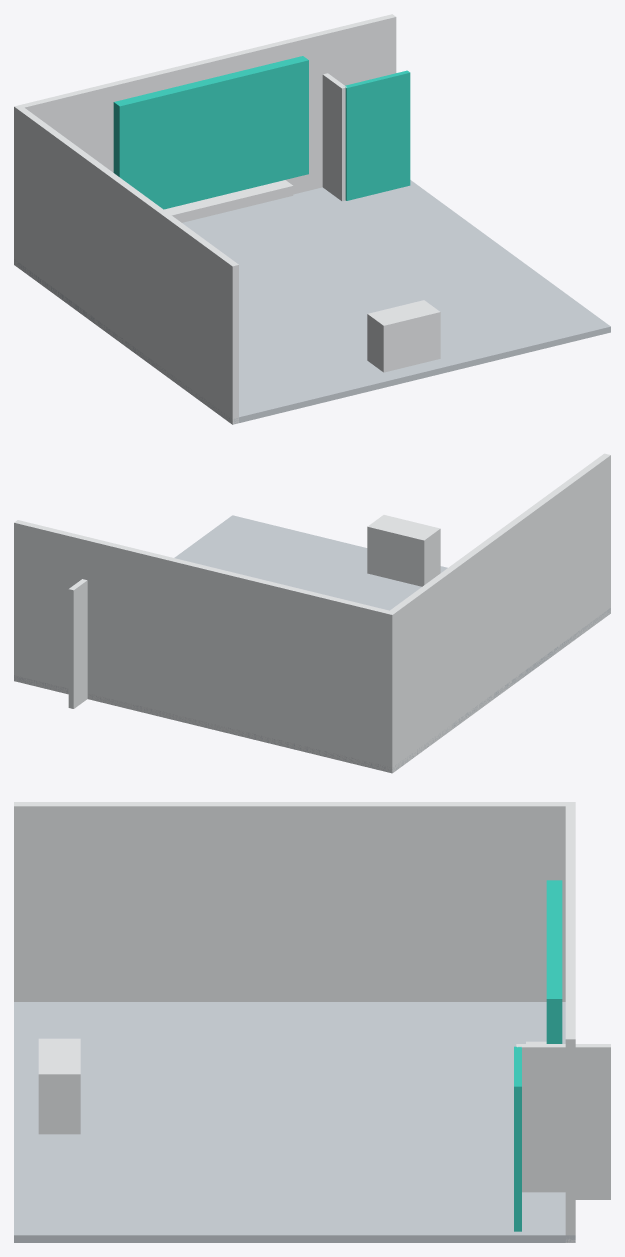
The picture shows the model from 3 angles, top to bottom: view 1: azimuth 30°, elevation 25°; view 2: azimuth 150°, elevation 25°; view 3: azimuth 270°, elevation 25°; orthographic projection. The views are drawn at different scales.
Visible parts, largest first — view 1: Exhibition Booth Concept; view 2: Exhibition Booth Concept; view 3: Exhibition Booth Concept.
Part boxes in pixels (x1,y1,x2,y2): Exhibition Booth Concept: (14, 14, 610, 424); Exhibition Booth Concept: (14, 453, 610, 773); Exhibition Booth Concept: (14, 802, 610, 1242).
Size of the model in its own units: 8 by 3.2 by 8.51.
